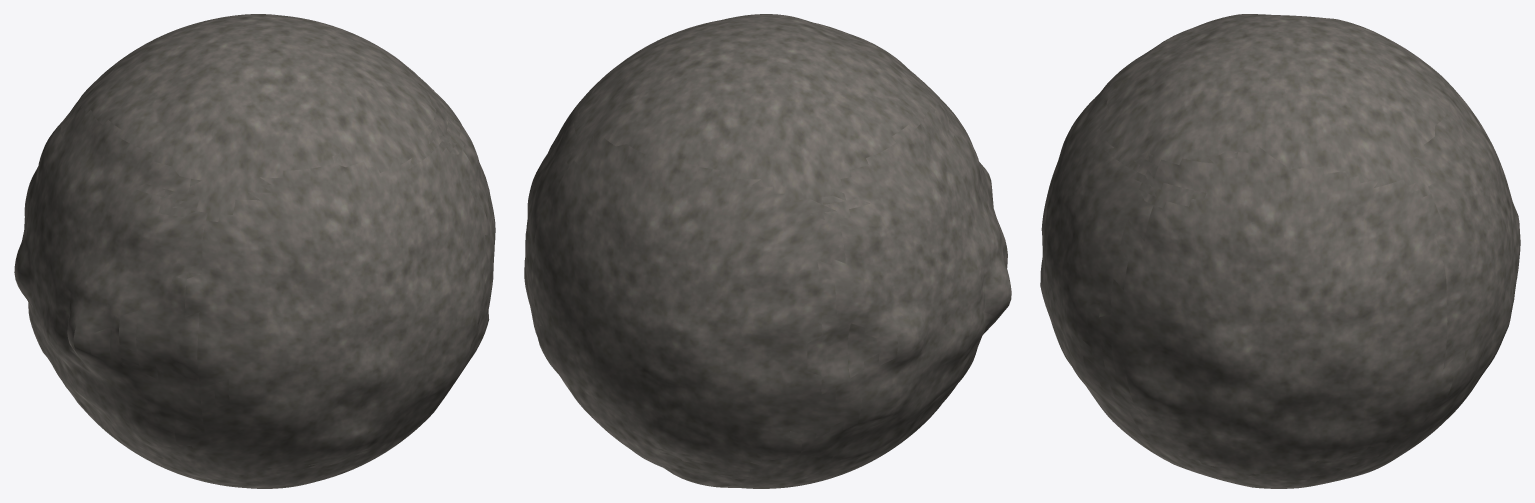
Rendered from bennu.glb.
3 renders of one model, left to right at view 1: azimuth 30°, elevation 25°; view 2: azimuth 150°, elevation 25°; view 3: azimuth 270°, elevation 25°, orthographic.
Visible parts, largest first — view 1: Fake; view 2: Fake; view 3: Fake.
Boxes of the visible parts, <box> form: Fake: <box>14,14,495,488</box>; Fake: <box>524,14,1011,488</box>; Fake: <box>1040,14,1520,488</box>.
Size of the model in its own units: 565 by 544 by 548.
1 material, 1 textured.
